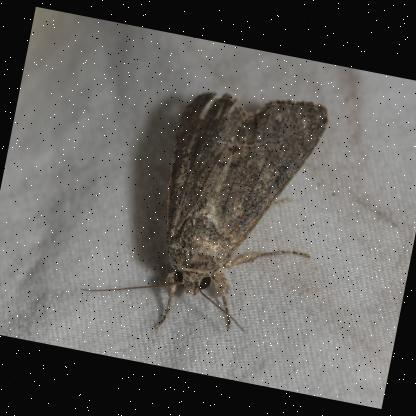Fall Armyworm Moth: (72, 63, 342, 359)
